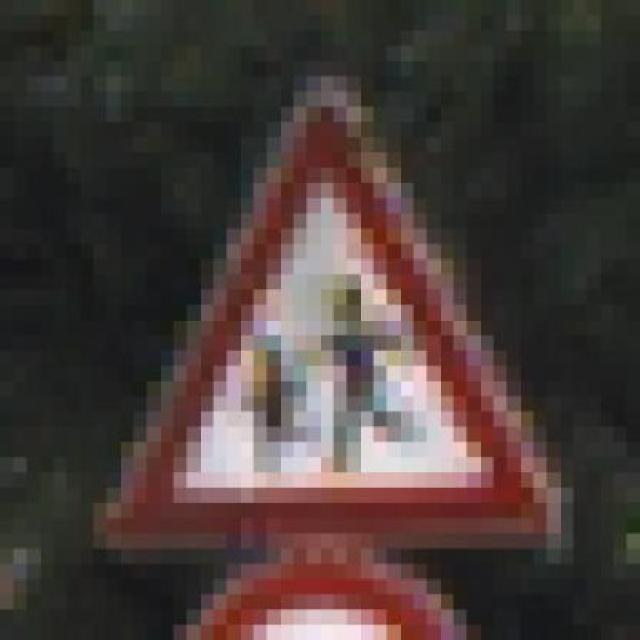Beware of children: (66, 76, 574, 564)
